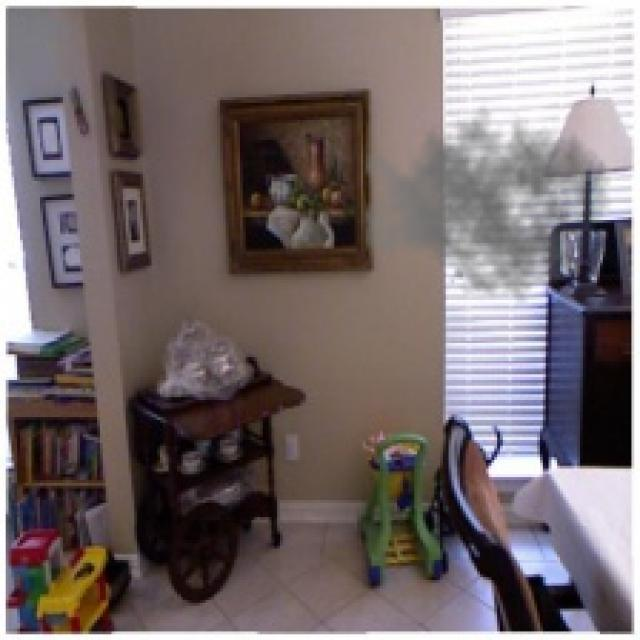Smoke: (366, 94, 612, 306)
